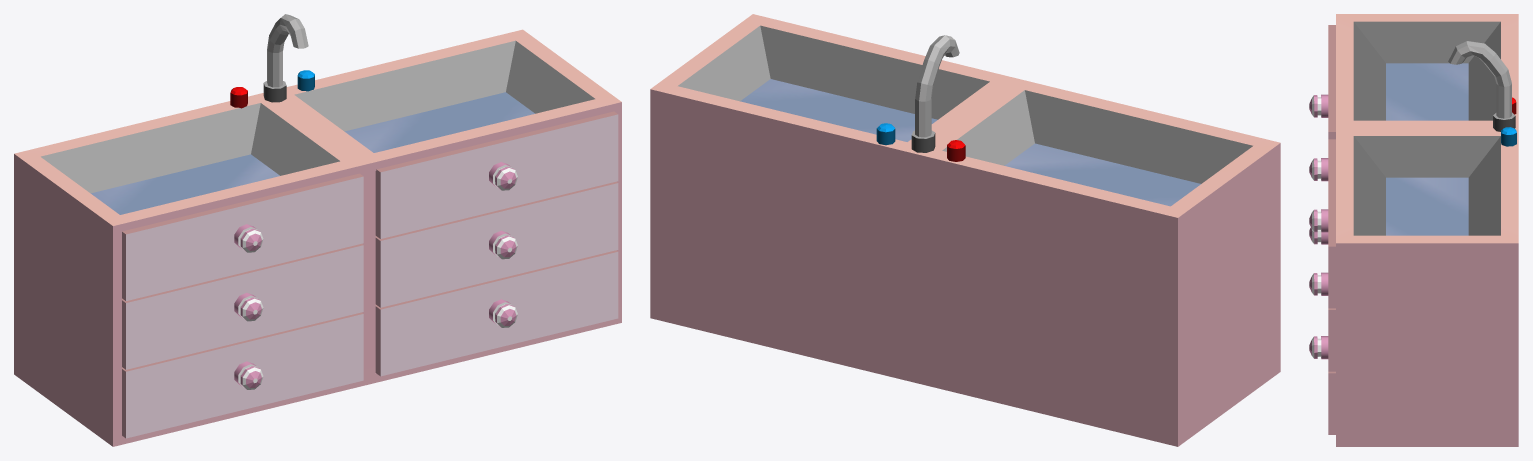
The model's file is Cabinet_Pink_Lower_Double_Sink.fbx.
The picture shows the model from 3 angles, left to right: view 1: azimuth 30°, elevation 25°; view 2: azimuth 150°, elevation 25°; view 3: azimuth 270°, elevation 25°; orthographic projection. The views are drawn at different scales.
Visible parts, largest first — view 1: Cabinet_Pink_Lower_Double_Sink, Cabinet_Pink_Lower_Double_Sink011, Cabinet_Pink_Lower_Double_Sink01, Cabinet_Pink_Lower_Double_Sink009, Cabinet_Pink_Lower_Double_Sink010, Cabinet_Pink_Lower_Double_Sink008, Cabinet_Pink_Lower_Double_Sink007; view 2: Cabinet_Pink_Lower_Double_Sink; view 3: Cabinet_Pink_Lower_Double_Sink, Cabinet_Pink_Lower_Double_Sink011, Cabinet_Pink_Lower_Double_Sink01, Cabinet_Pink_Lower_Double_Sink009, Cabinet_Pink_Lower_Double_Sink010, Cabinet_Pink_Lower_Double_Sink007, Cabinet_Pink_Lower_Double_Sink008.
Boxes of the visible parts, left/top/right/bottom form: Cabinet_Pink_Lower_Double_Sink: left=14, top=14, right=621, bottom=446; Cabinet_Pink_Lower_Double_Sink011: left=375, top=111, right=618, bottom=238; Cabinet_Pink_Lower_Double_Sink01: left=122, top=173, right=363, bottom=300; Cabinet_Pink_Lower_Double_Sink009: left=375, top=181, right=618, bottom=307; Cabinet_Pink_Lower_Double_Sink010: left=375, top=250, right=618, bottom=376; Cabinet_Pink_Lower_Double_Sink008: left=122, top=312, right=363, bottom=438; Cabinet_Pink_Lower_Double_Sink007: left=122, top=243, right=363, bottom=369; Cabinet_Pink_Lower_Double_Sink: left=650, top=14, right=1280, bottom=446; Cabinet_Pink_Lower_Double_Sink: left=1336, top=14, right=1518, bottom=446; Cabinet_Pink_Lower_Double_Sink011: left=1309, top=139, right=1335, bottom=308; Cabinet_Pink_Lower_Double_Sink01: left=1309, top=25, right=1335, bottom=139; Cabinet_Pink_Lower_Double_Sink009: left=1309, top=272, right=1335, bottom=371; Cabinet_Pink_Lower_Double_Sink010: left=1309, top=336, right=1335, bottom=434; Cabinet_Pink_Lower_Double_Sink007: left=1309, top=158, right=1328, bottom=181; Cabinet_Pink_Lower_Double_Sink008: left=1309, top=227, right=1328, bottom=244.
Bounding box in the file's own units: 200 × 118 × 77.29.
